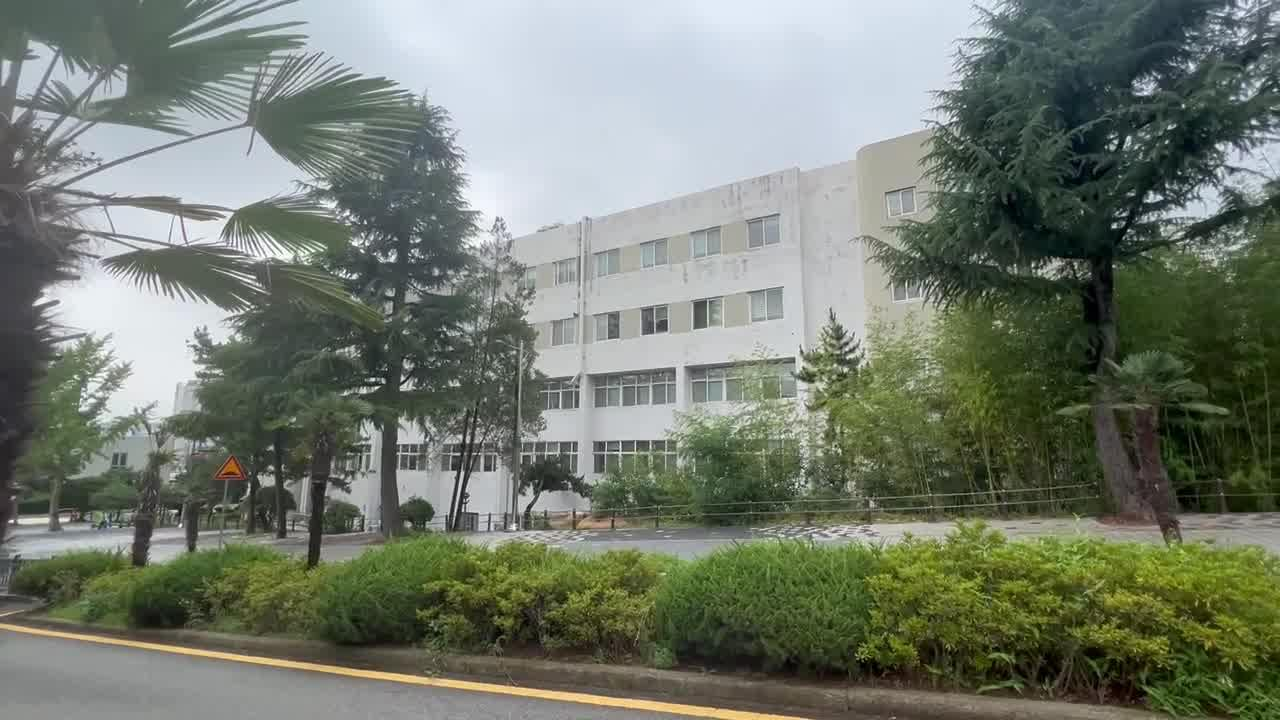building: (558, 181, 793, 416)
